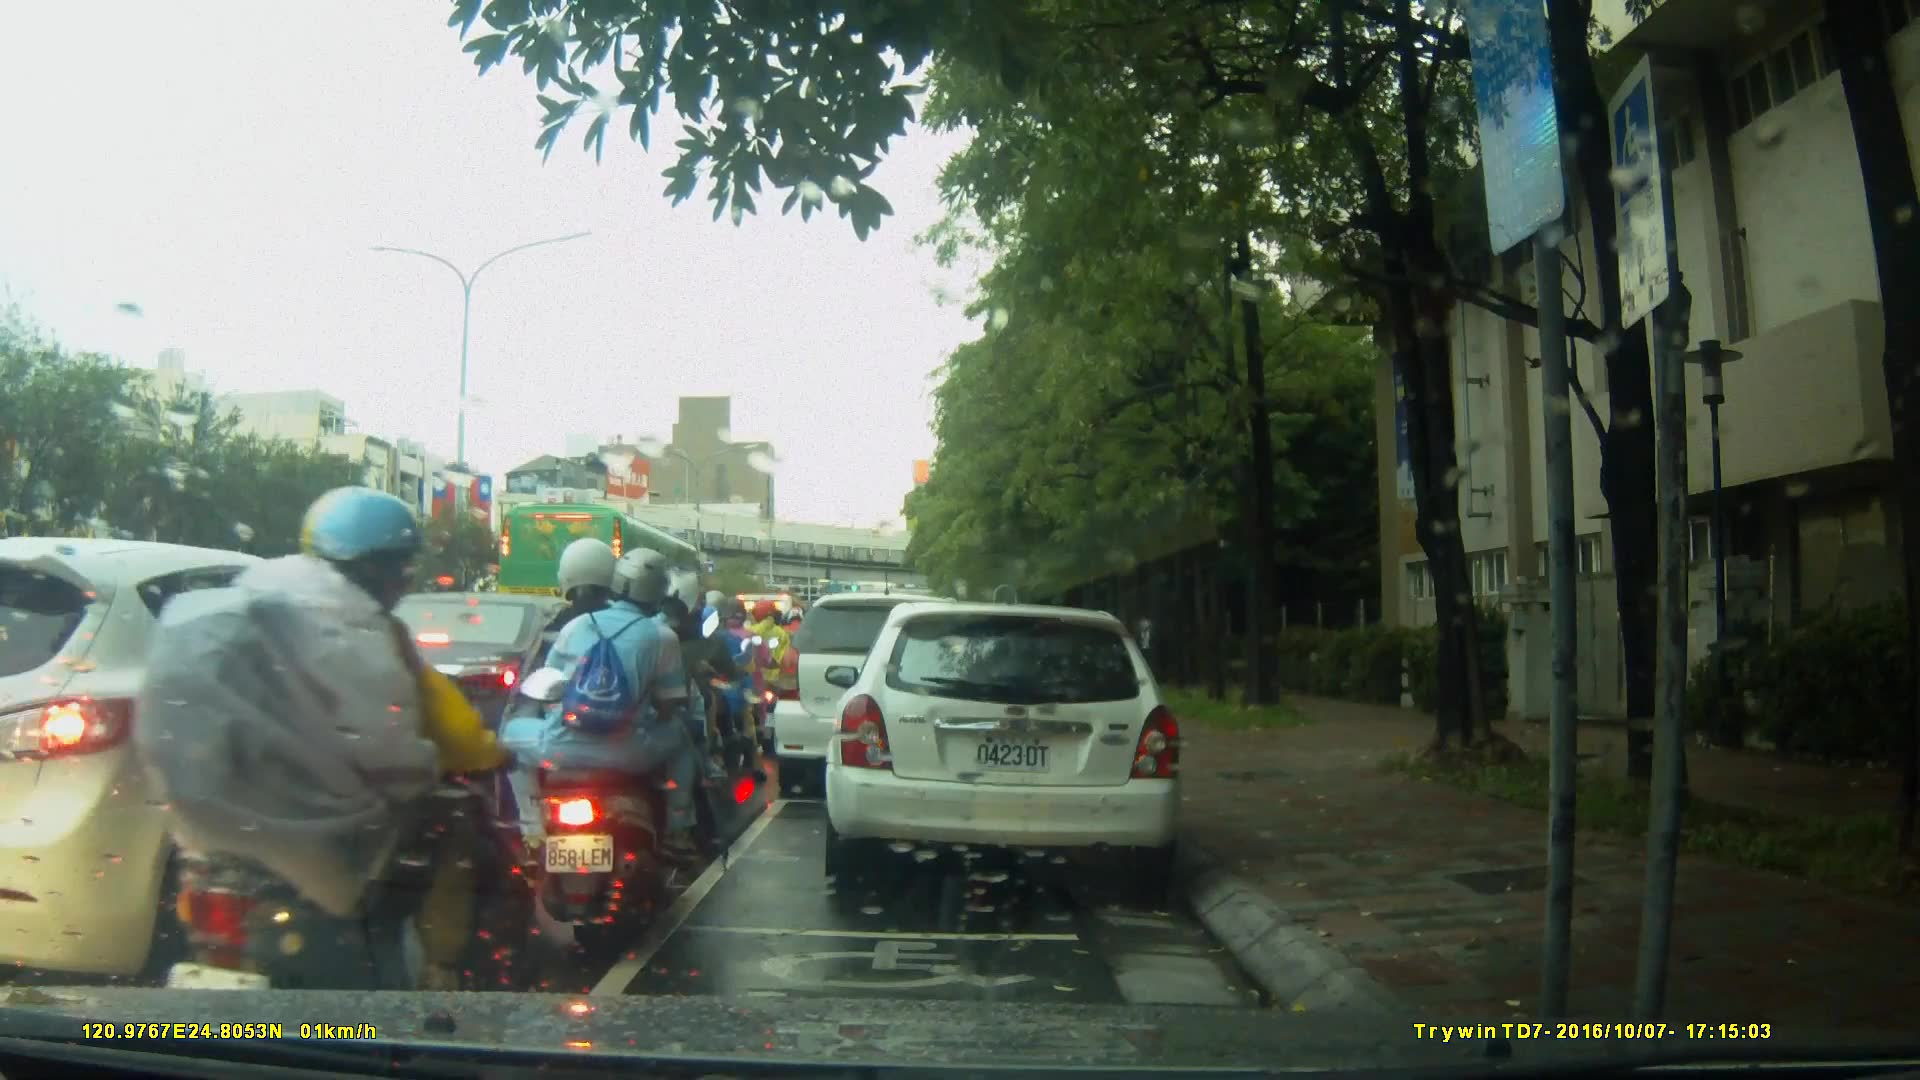rider: (132, 486, 543, 1054), (513, 542, 736, 945), (600, 562, 718, 834), (688, 585, 767, 787), (706, 598, 779, 764), (749, 598, 797, 737)
vehicle: (2, 536, 459, 987), (831, 592, 1196, 897), (312, 590, 629, 776), (773, 590, 999, 803), (497, 502, 713, 636)
